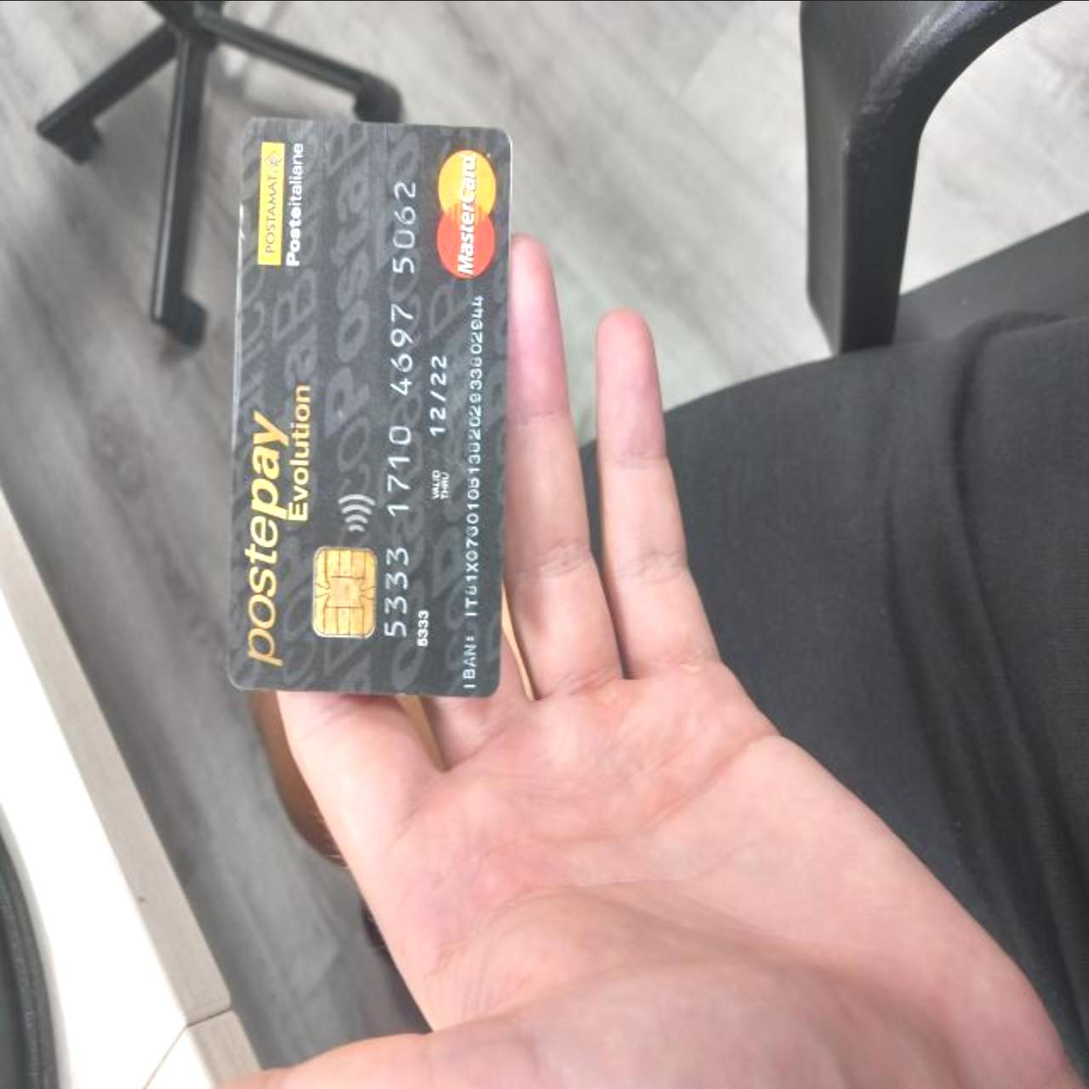credit_card: (204, 116, 517, 698)
